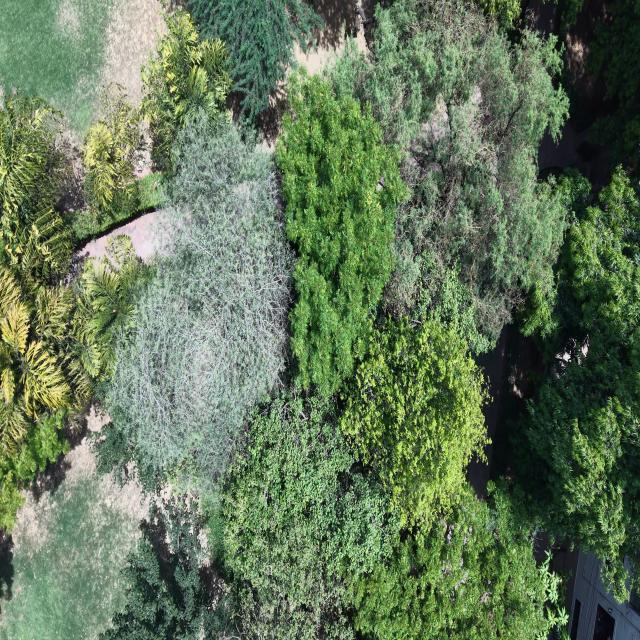DRY_AREA: (0, 437, 148, 639), (0, 439, 147, 639), (0, 440, 146, 639), (0, 0, 165, 139), (0, 0, 163, 133), (523, 0, 612, 189), (538, 0, 610, 189), (101, 0, 166, 104), (294, 0, 367, 74), (77, 212, 161, 260)
VEGETATION_TREE: (0, 0, 639, 639), (97, 72, 566, 638), (99, 73, 566, 638), (98, 75, 552, 638), (99, 124, 485, 637), (107, 395, 566, 639), (210, 395, 566, 639), (331, 0, 568, 351), (512, 0, 639, 601), (105, 121, 293, 496), (0, 91, 151, 531), (0, 91, 150, 530), (0, 92, 115, 530), (528, 168, 639, 601), (216, 395, 397, 639), (0, 238, 147, 530), (276, 72, 405, 393), (0, 92, 85, 530), (354, 483, 567, 639), (340, 319, 486, 527), (0, 444, 147, 639), (100, 499, 218, 639), (191, 0, 323, 125), (0, 267, 84, 455), (555, 0, 639, 188), (0, 0, 113, 139), (68, 86, 165, 241), (141, 11, 231, 170), (0, 91, 71, 290), (67, 236, 151, 401), (518, 169, 591, 337), (72, 236, 151, 381), (384, 248, 491, 354), (588, 0, 639, 173), (0, 410, 68, 531), (83, 86, 140, 218), (68, 172, 167, 242), (92, 422, 157, 493), (477, 0, 534, 36), (478, 0, 521, 31), (552, 0, 584, 41), (138, 172, 165, 211), (556, 0, 584, 34)
